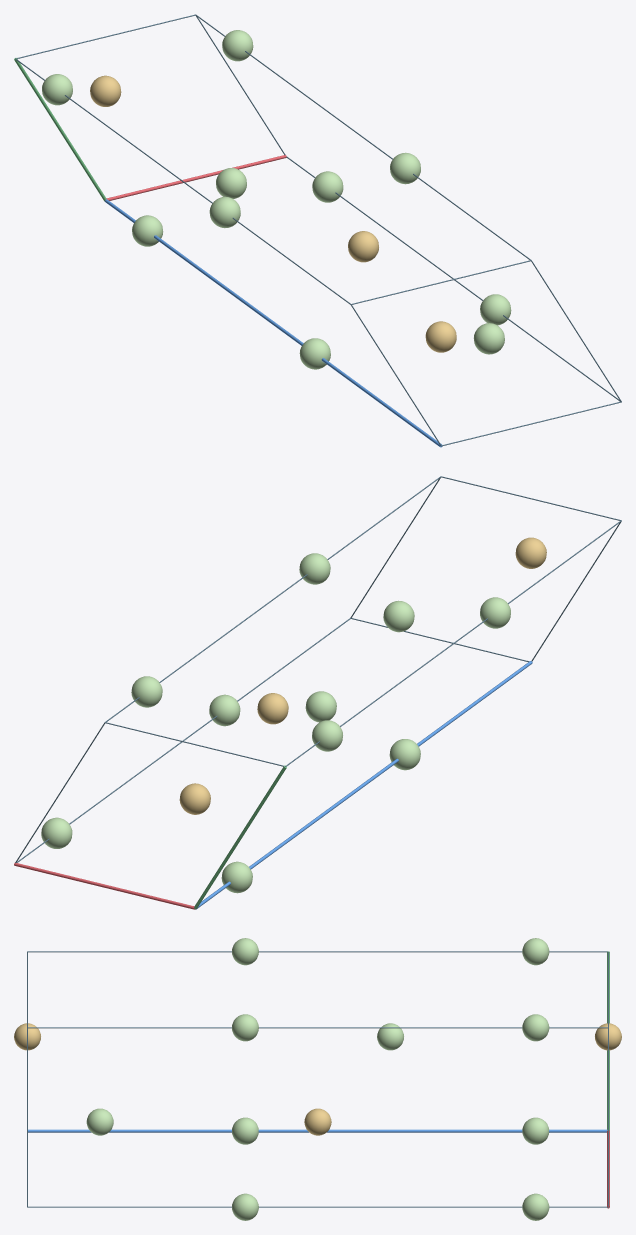
File: chat-cadmium-iodide.glb
3 renders of one model, top to bottom at view 1: azimuth 30°, elevation 25°; view 2: azimuth 150°, elevation 25°; view 3: azimuth 270°, elevation 25°, orthographic. The views are drawn at different scales.
Parts seen in each view (by area): view 1: Ô mạng và các trục a, b, c, I2 · I · 1 (×8), Cd · Cd · 1 (×3), I1 · I · 1 (×2); view 2: Ô mạng và các trục a, b, c, I2 · I · 1 (×8), Cd · Cd · 1 (×3), I1 · I · 1 (×2); view 3: Ô mạng và các trục a, b, c, I2 · I · 1 (×8), Cd · Cd · 1 (×3), I1 · I · 1 (×2).
Part boxes in pixels (left/top/right/bottom): Ô mạng và các trục a, b, c: left=14, top=14, right=621, bottom=447; I2 · I · 1 (×8): left=42, top=30, right=511, bottom=369; Cd · Cd · 1 (×3): left=90, top=75, right=456, bottom=352; I1 · I · 1 (×2): left=216, top=168, right=504, bottom=354; Ô mạng và các trục a, b, c: left=14, top=476, right=621, bottom=909; I2 · I · 1 (×8): left=41, top=553, right=510, bottom=893; Cd · Cd · 1 (×3): left=179, top=537, right=546, bottom=814; I1 · I · 1 (×2): left=305, top=600, right=414, bottom=722; Ô mạng và các trục a, b, c: left=27, top=951, right=609, bottom=1208; I2 · I · 1 (×8): left=232, top=938, right=549, bottom=1220; Cd · Cd · 1 (×3): left=14, top=1023, right=621, bottom=1135; I1 · I · 1 (×2): left=86, top=1023, right=403, bottom=1135.
Size of the model in its own units: 7 by 4.31 by 14.31.
